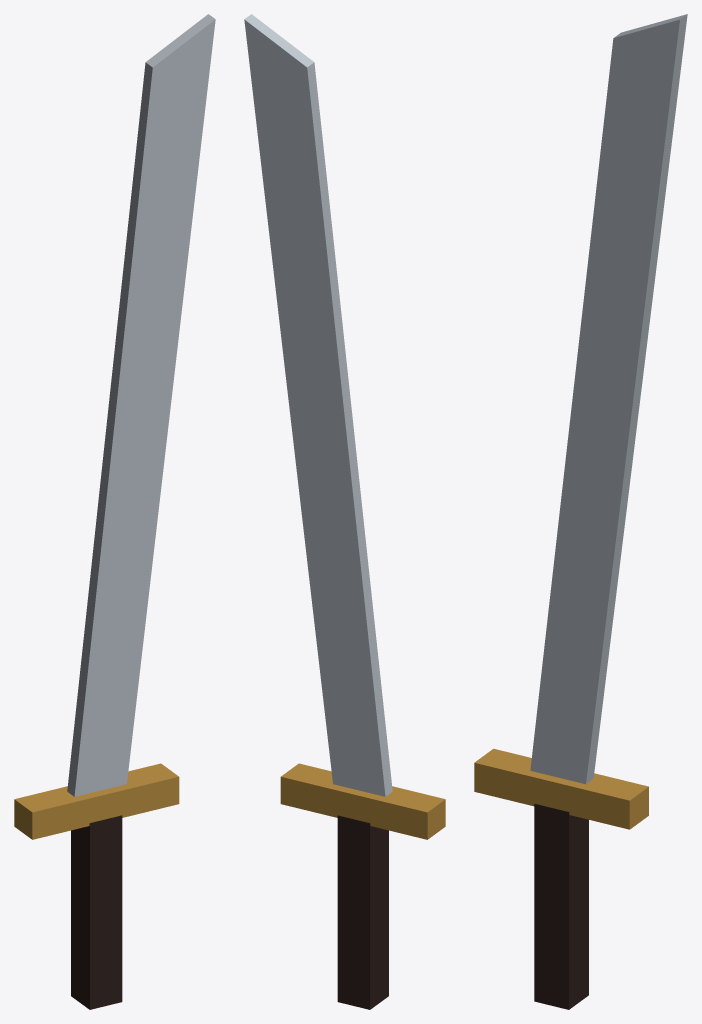
The model's file is SM_Prop_Cutlass_LQ.glb.
3 views of the same model, side by side, from view 1: azimuth 30°, elevation 25°; view 2: azimuth 150°, elevation 25°; view 3: azimuth 330°, elevation 25° (orthographic). The views are drawn at different scales.
Visible parts, largest first — view 1: SM_Prop_Cutlass_LQ; view 2: SM_Prop_Cutlass_LQ; view 3: SM_Prop_Cutlass_LQ.
Part boxes in pixels (x1=…): SM_Prop_Cutlass_LQ: x1=14, y1=14, x2=215, y2=1009; SM_Prop_Cutlass_LQ: x1=244, y1=14, x2=445, y2=1009; SM_Prop_Cutlass_LQ: x1=474, y1=14, x2=687, y2=1009.
Size of the model in its own units: 0.18 by 0.87 by 0.0311.
Materials: 1 (1 with a texture image).
